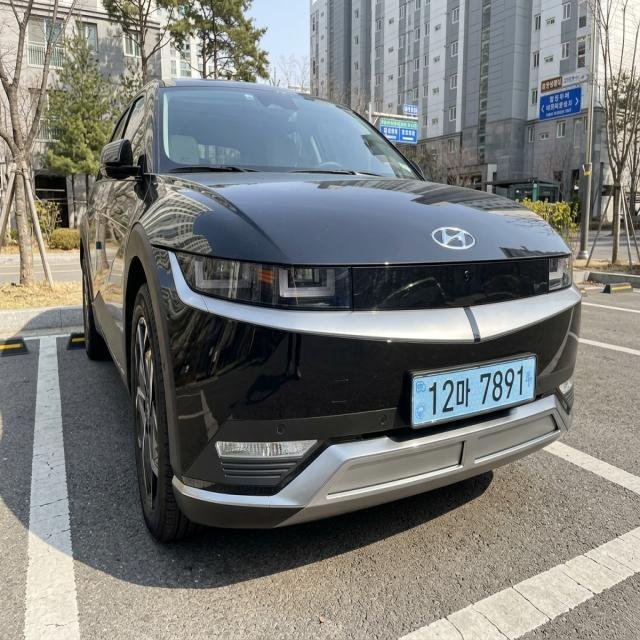car: (375, 348, 560, 439)
carev: (411, 372, 429, 428), (523, 357, 540, 408)
